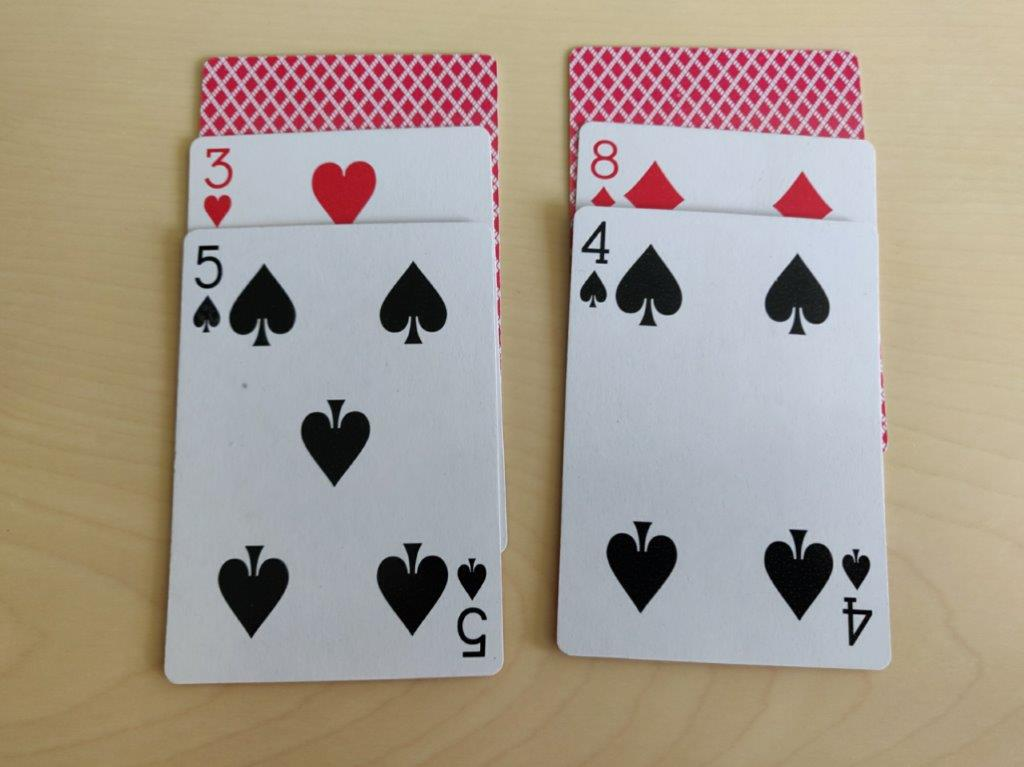3H: (193, 145, 237, 226)
4S: (577, 216, 621, 325)
5S: (187, 239, 230, 338)
8D: (584, 134, 624, 213)
BACK: (564, 44, 865, 140), (197, 56, 500, 130)
